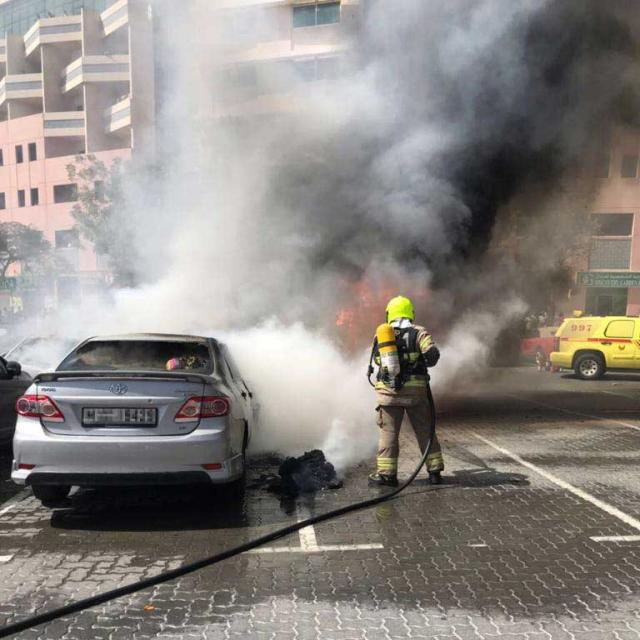Fire: (337, 277, 395, 339)
Smoke: (0, 0, 640, 476)
